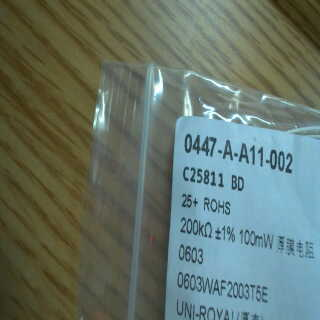200kR: (179, 219, 213, 236)
